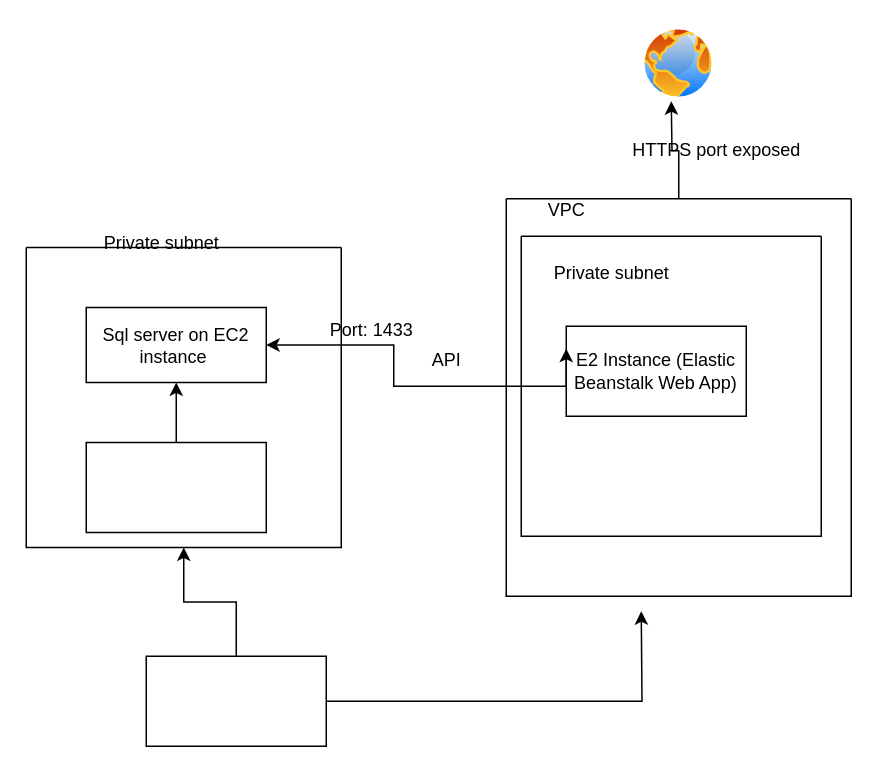
Some shapes in this 878 by 773 pixel diagram are drawn without their labels. The shapes that lost their labels are listed below. From the top down, each one's centre as x and y in pixels, then its label:
At (x=175, y=486): "Amazon EBS (file Storeage)".
At (x=235, y=700): "Amazon Webmail".
